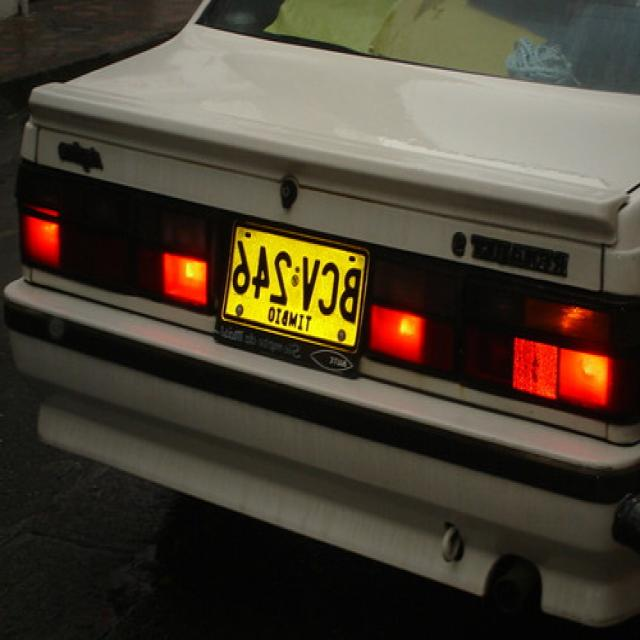placas: (227, 233, 360, 327)
